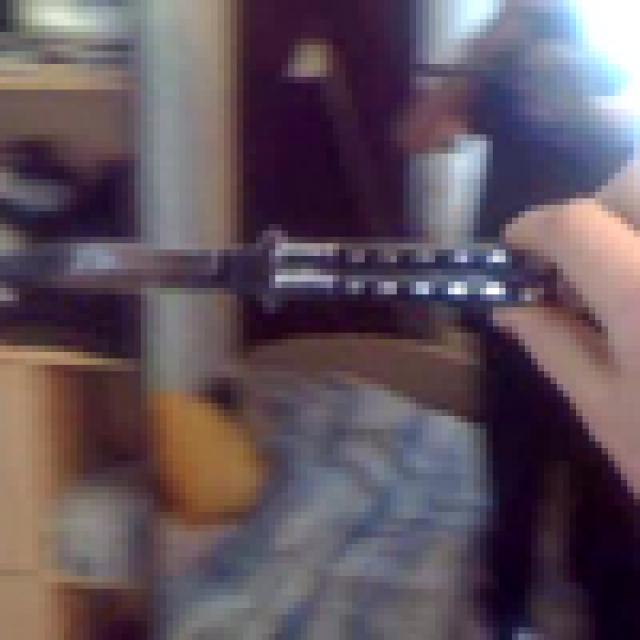weapon: (13, 185, 595, 428)
